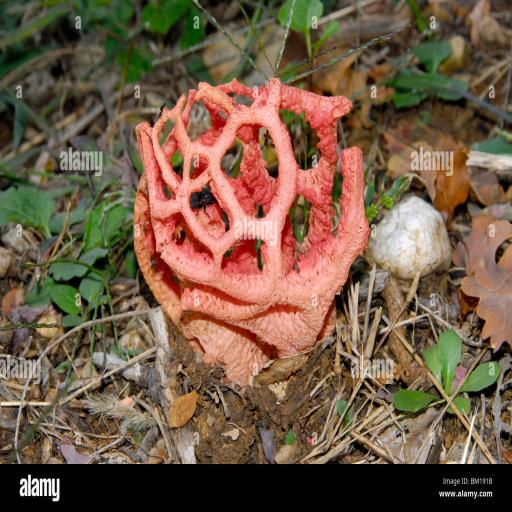Red Cage Fungus: (130, 72, 367, 391)
